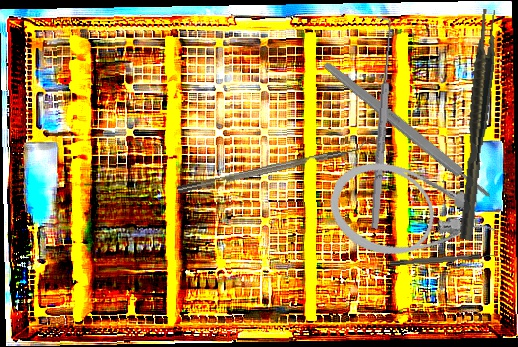Cannula: (319, 149, 505, 286)
Chopper: (174, 136, 369, 194)
Hook Surgical: (361, 16, 397, 229), (389, 252, 497, 267)
Scalpel Handle: (320, 58, 494, 202)
Tissue Forceps: (452, 8, 501, 241)
